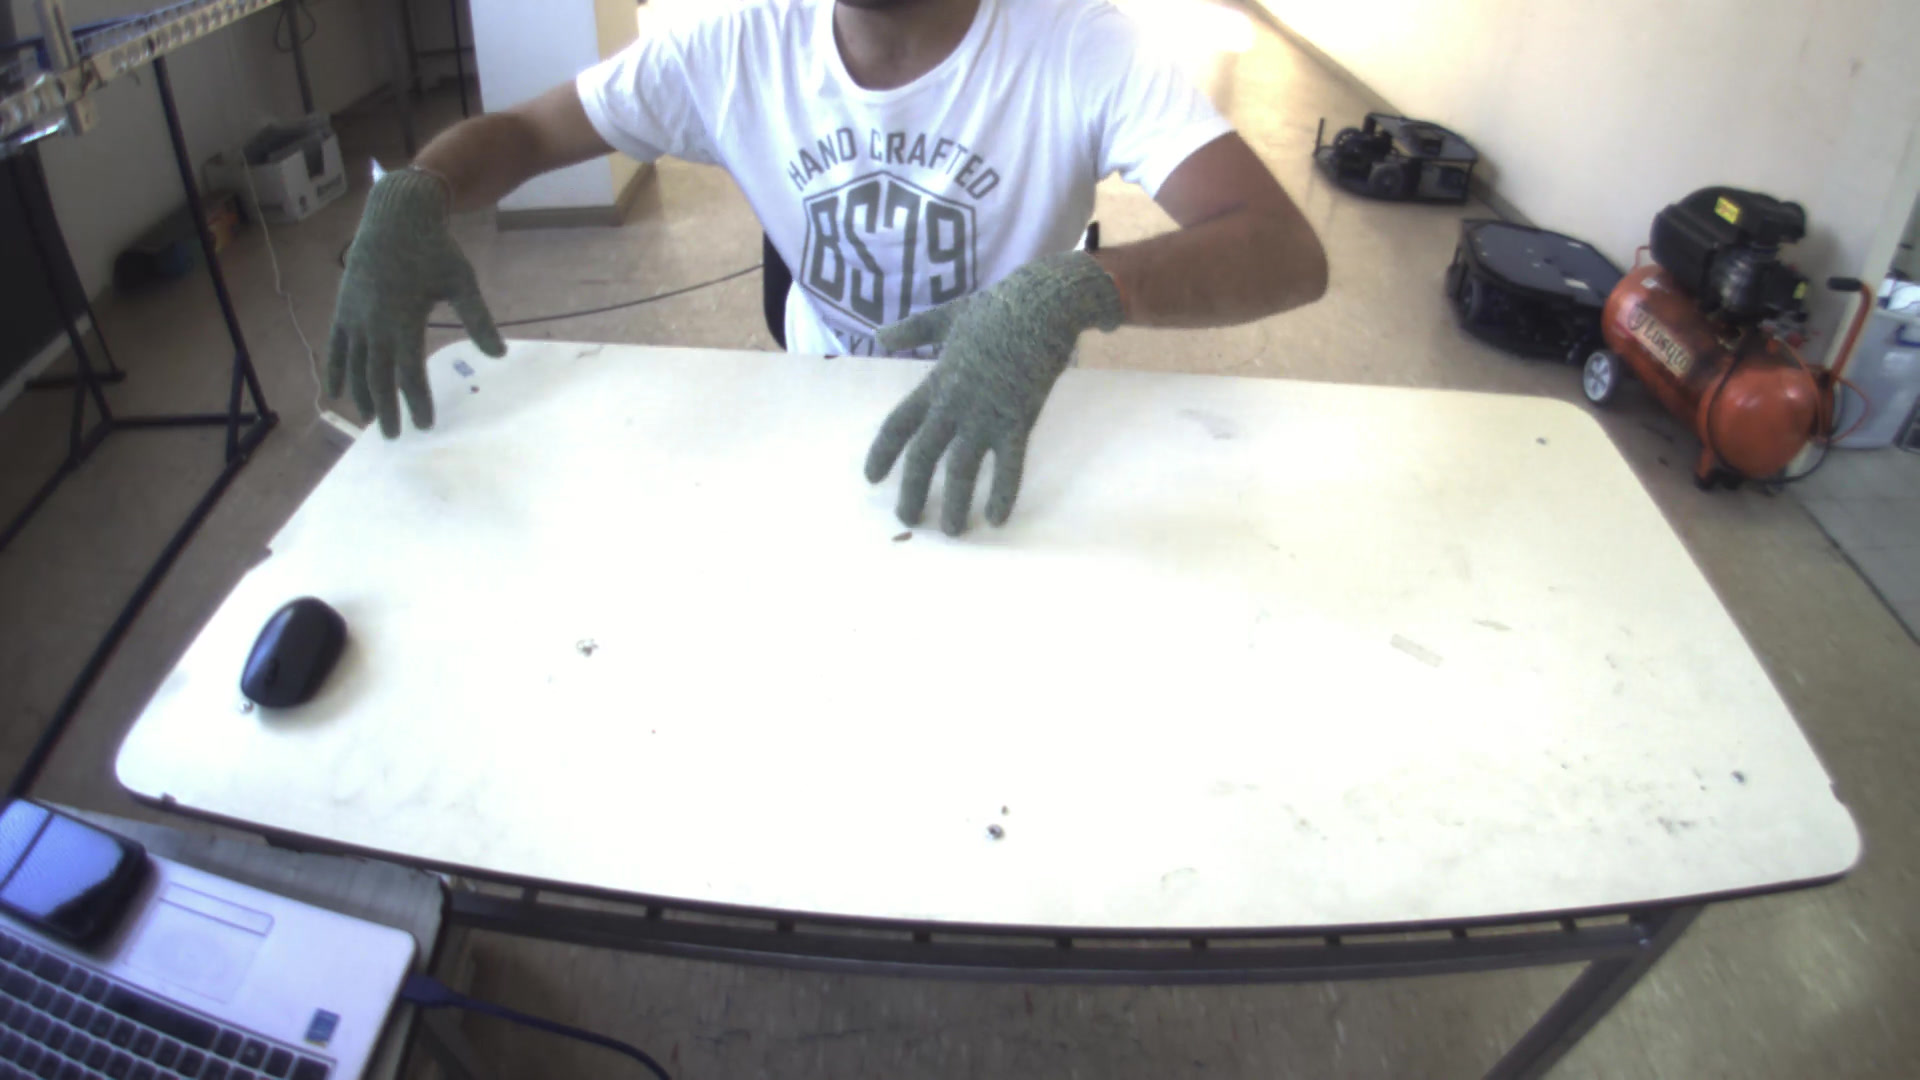hand: (847, 245, 1126, 542), (305, 156, 505, 443)
